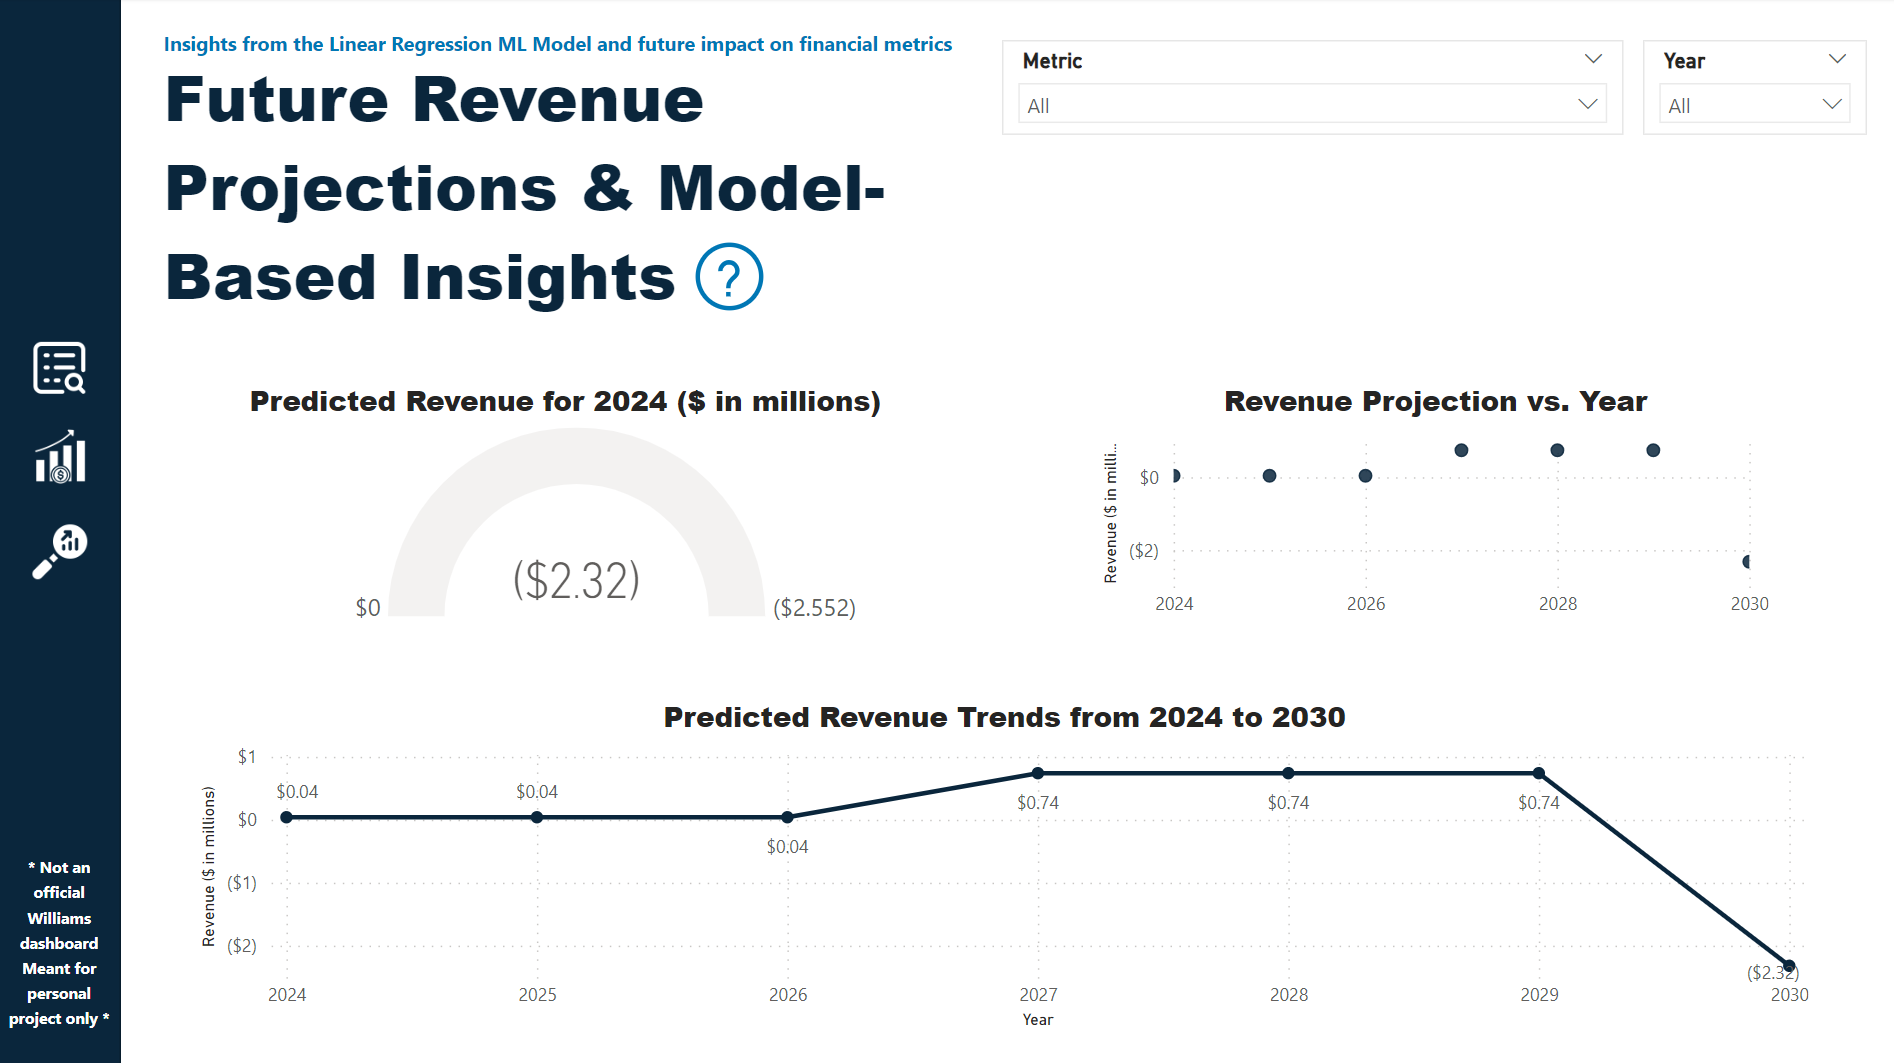

Layout of this report page (visuals, bound fields, positions):
{"tool":"powerbi","page":{"name":"Future Revenue Projections & Model-Based Insights","canvas":[1280,720],"ordinal":4},"visuals":[{"type":"textbox","box":[107.1,31.2,572.6,193],"z":0},{"type":"textbox","box":[107.3,17.2,633,27.9],"z":1000},{"type":"shape","box":[0,0,83.6,720],"z":2000},{"type":"lineChart","title":"Predicted Revenue Trends from 2024 to 2030","fields":{"Category":["williams_consolidated_df.Year"],"Y":["williams_consolidated_df.Value"]},"box":[132.1,470.6,1094.2,228.5],"z":3000},{"type":"gauge","title":"Predicted Revenue for 2024 ($ in millions)","fields":{"Y":["williams_consolidated_df.Value"],"MaxValue":["williams_consolidated_df.Target_Revenue"]},"box":[165.2,257.5,490.1,169.2],"z":4000},{"type":"scatterChart","title":"Revenue Projection vs. Year","fields":{"X":["williams_consolidated_df.Year"],"Y":["williams_consolidated_df.Value"]},"box":[740.2,257.5,459.1,169.2],"z":5000},{"type":"actionButton","box":[464.5,158.4,101.8,58.7],"z":6000},{"type":"slicer","fields":{"Values":["williams_consolidated_df.Year"]},"box":[1109.7,28.4,151.1,63.9],"z":7000},{"type":"slicer","fields":{"Values":["williams_consolidated_df.Metric Name"]},"box":[677.6,28.4,418.6,63.9],"z":8000},{"type":"card","fields":{"Values":["williams_consolidated_df.Value"]},"box":[468.5,165.2,52.6,45.8],"z":9000},{"type":"textbox","box":[0,571,83.7,149],"z":10000},{"type":"image","box":[17.5,285.2,49.2,47.9],"z":11000},{"type":"image","box":[19.6,223.8,45.2,51.2],"z":12000},{"type":"image","box":[18.9,347.9,47.2,50.6],"z":13000}]}

Visuals, with their boxes on the page's 1280x720 design canvas (x1, y1, x2, y2). These are canvas units, not pixel positions in the 1894x1063 screenshot, which may show the page scaled, cropped or inside an application window:
textbox: 107, 31, 680, 224
textbox: 107, 17, 740, 45
shape: 0, 0, 84, 720
"Predicted Revenue Trends from 2024 to 2030" lineChart: 132, 471, 1226, 699
"Predicted Revenue for 2024 ($ in millions)" gauge: 165, 258, 655, 427
"Revenue Projection vs. Year" scatterChart: 740, 258, 1199, 427
actionButton: 464, 158, 566, 217
slicer - williams_consolidated_df.Year: 1110, 28, 1261, 92
slicer - williams_consolidated_df.Metric Name: 678, 28, 1096, 92
card - williams_consolidated_df.Value: 468, 165, 521, 211
textbox: 0, 571, 84, 720
image: 18, 285, 67, 333
image: 20, 224, 65, 275
image: 19, 348, 66, 398
